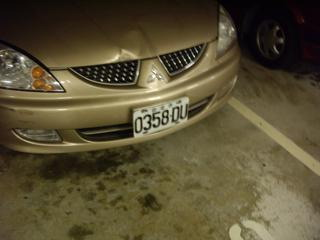plate: (131, 97, 189, 137)
